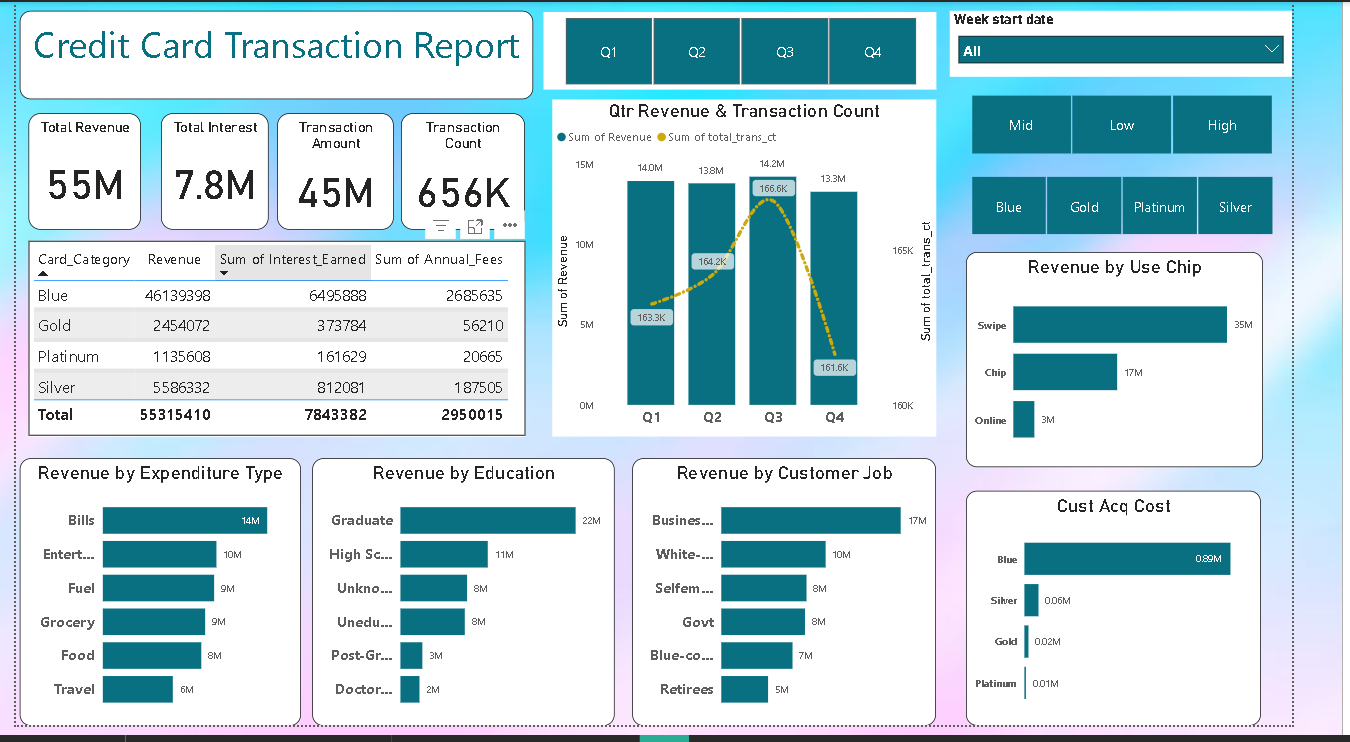

What the dashboard file says about the page in this screenshot:
{"tool":"powerbi","page":{"name":"Page 2","canvas":[1500,850],"ordinal":1},"visuals":[{"type":"textbox","box":[4.4,10.3,603.6,104.3],"z":0},{"type":"card","title":"Total Revenue","fields":{"Values":["Sum(public cc_detail.Revenue)"]},"box":[14.7,130.7,132.2,136.6],"z":1000},{"type":"card","title":"Total Interest","fields":{"Values":["Sum(public cc_detail.interest_earned)"]},"box":[170.4,130.7,126.3,136.6],"z":2000},{"type":"card","title":"Transaction Amount","fields":{"Values":["Sum(public cc_detail.total_trans_amt)"]},"box":[306.9,130.7,136.6,136.6],"z":3000},{"type":"card","title":"Transaction Count","fields":{"Values":["Sum(public cc_detail.total_trans_ct)"]},"box":[452.3,130.7,145.4,136.6],"z":4000},{"type":"tableEx","fields":{"Values":["public cc_detail.card_category","Sum(public cc_detail.Revenue)","Sum(public cc_detail.interest_earned)","Sum(public cc_detail.annual_fees)"]},"box":[14.3,280,584.3,230],"z":5000},{"type":"clusteredBarChart","title":"Revenue by Expenditure Type","fields":{"Category":["public cc_detail.exp_type"],"Y":["Sum(public cc_detail.Revenue)"]},"box":[4.3,524.3,330,314.3],"z":6000},{"type":"clusteredBarChart","title":"Revenue by Education","fields":{"Category":["public cust_detail.education_level"],"Y":["Sum(public cc_detail.Revenue)"]},"box":[348.6,524.3,354.3,314.3],"z":7000},{"type":"clusteredBarChart","title":"Revenue by Customer Job","fields":{"Y":["Sum(public cc_detail.Revenue)"],"Category":["public cust_detail.customer_job"]},"box":[724.3,524.3,357.1,314.3],"z":8000},{"type":"slicer","fields":{"Values":["public cc_detail.Card_Category"]},"box":[1097.1,198.6,402.9,81.4],"z":9000},{"type":"slicer","fields":{"Values":["public cust_detail.Income Category"]},"box":[1097,102.8,402.4,82.2],"z":10000},{"type":"slicer","title":"Week start date","fields":{"Values":["public cc_detail.week_start_date"]},"box":[1097,10.3,402.4,77.8],"z":11000},{"type":"clusteredBarChart","title":"Cust Acq Cost","fields":{"Category":["public cc_detail.Card_Category"],"Y":["Sum(public cc_detail.customer_acq_cost)"]},"box":[1116.1,562.5,346.6,276.1],"z":12000},{"type":"clusteredBarChart","title":"Revenue by Use Chip","fields":{"Category":["public cc_detail.use_chip"],"Y":["Sum(public cc_detail.Revenue)"]},"box":[1115.7,294.3,348.6,252.9],"z":13000},{"type":"lineClusteredColumnComboChart","title":"Qtr Revenue & Transaction Count","fields":{"Category":["public cc_detail.qtr"],"Y":["Sum(public cc_detail.Revenue)"],"Y2":["Sum(public cc_detail.total_trans_ct)"]},"box":[630,114.3,451.4,395.7],"z":14000},{"type":"slicer","fields":{"Values":["public cc_detail.qtr"]},"box":[620,11.4,461.4,91.4],"z":15000}]}

Visuals, with their boxes on the page's 1500x850 design canvas (x1, y1, x2, y2). These are canvas units, not pixel positions in the 1350x742 screenshot, which may show the page scaled, cropped or inside an application window:
textbox: rect(4, 10, 608, 115)
"Total Revenue" card: rect(15, 131, 147, 267)
"Total Interest" card: rect(170, 131, 297, 267)
"Transaction Amount" card: rect(307, 131, 444, 267)
"Transaction Count" card: rect(452, 131, 598, 267)
tableEx - public cc_detail.card_category x Sum(public cc_detail.Revenue): rect(14, 280, 599, 510)
"Revenue by Expenditure Type" clusteredBarChart: rect(4, 524, 334, 839)
"Revenue by Education" clusteredBarChart: rect(349, 524, 703, 839)
"Revenue by Customer Job" clusteredBarChart: rect(724, 524, 1081, 839)
slicer - public cc_detail.Card_Category: rect(1097, 199, 1500, 280)
slicer - public cust_detail.Income Category: rect(1097, 103, 1499, 185)
"Week start date" slicer: rect(1097, 10, 1499, 88)
"Cust Acq Cost" clusteredBarChart: rect(1116, 562, 1463, 839)
"Revenue by Use Chip" clusteredBarChart: rect(1116, 294, 1464, 547)
"Qtr Revenue & Transaction Count" lineClusteredColumnComboChart: rect(630, 114, 1081, 510)
slicer - public cc_detail.qtr: rect(620, 11, 1081, 103)
